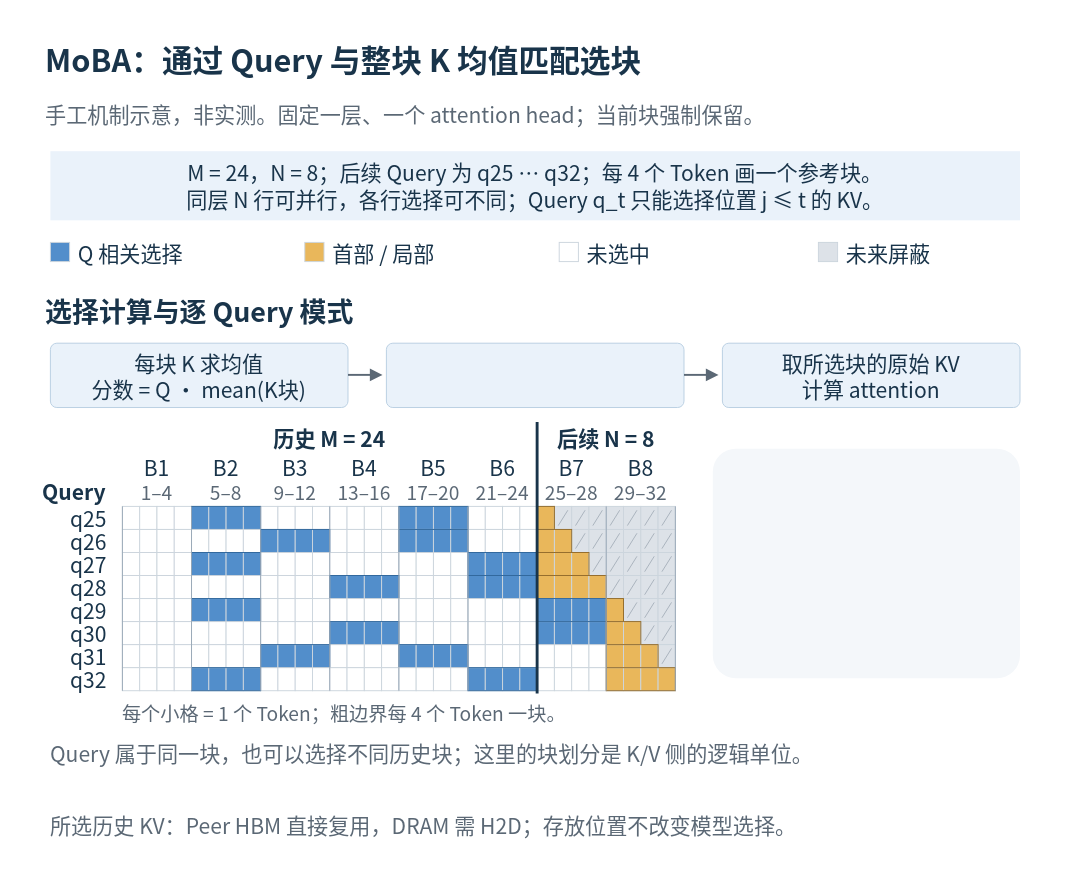
Some shapes in this 1069 by 877 pixel diagram are drawn without their labels. Each missing label, with the box of its shape:
按分数选历史块 当前块强制保留: (385, 342, 684, 408)
蓝：2 个历史块。 金：当前块。 当前块不靠整块均值 决定是否入选，防止 未来 K 影响路由。 块内仍做因果屏蔽。: (712, 448, 1020, 678)
